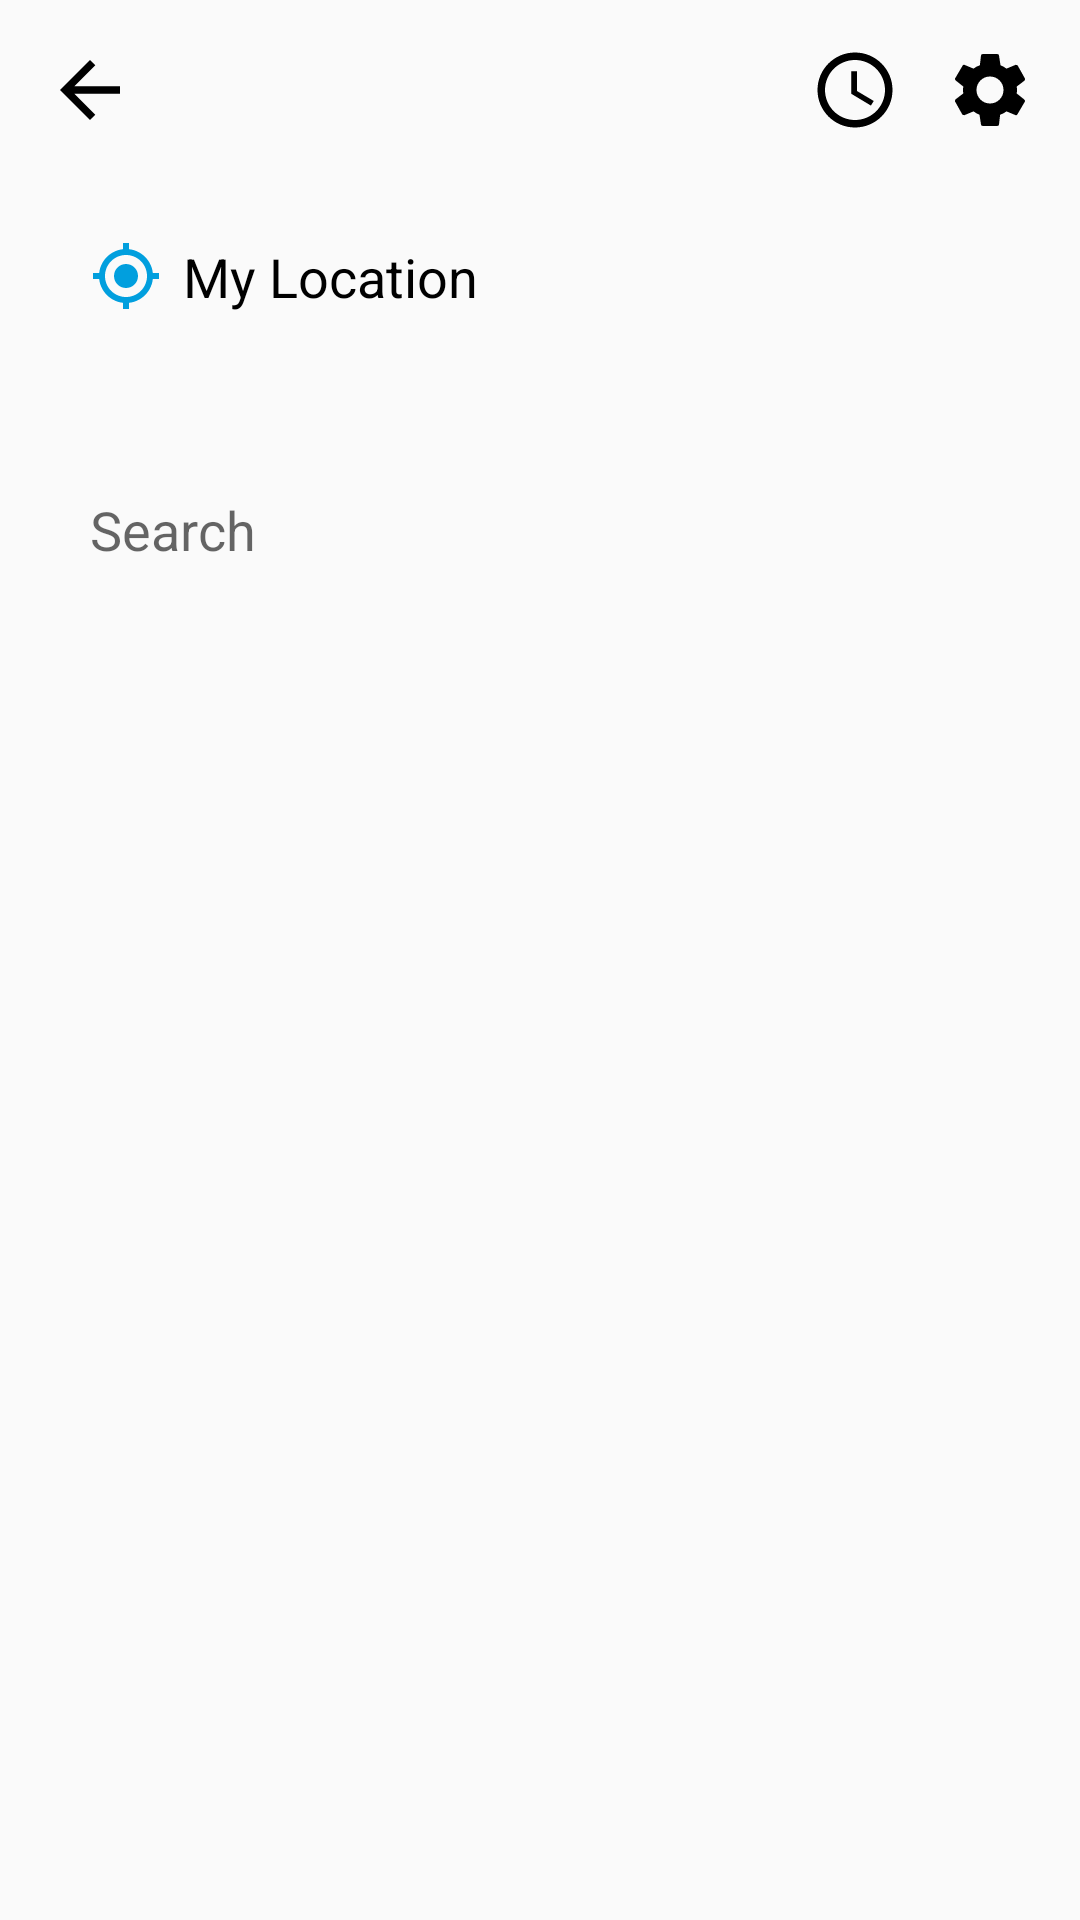

Where to tap for icons on this 1080 × 1920 app screen, as point (x, y):
arrow back: point (90, 90)
settings: point (990, 90)
time: point (855, 90)
